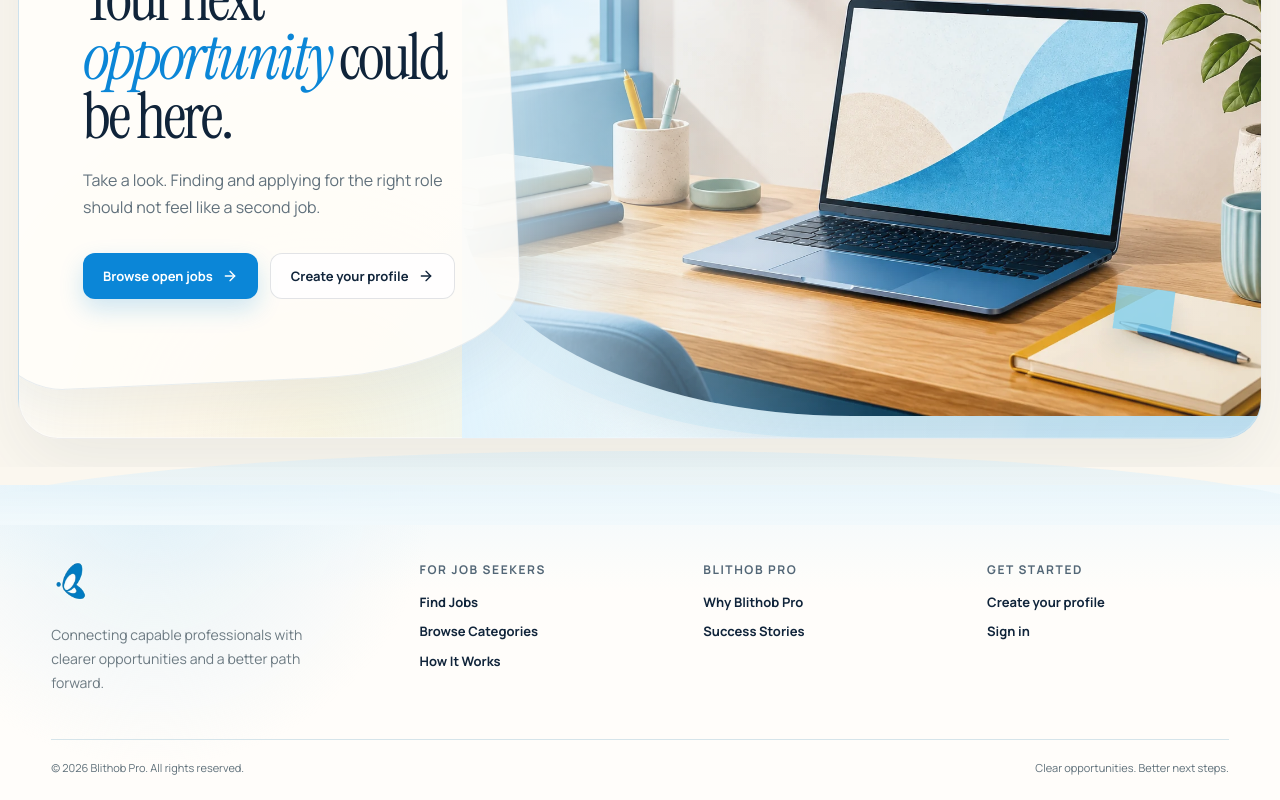
application routing › lets a visitor enter the prototype and choose a persona
The image size is (1280, 800).
(page scrolled)
Step 1. Click the link "Sign in" → (1008, 632), box [987,622,1030,642]
(page scrolled)
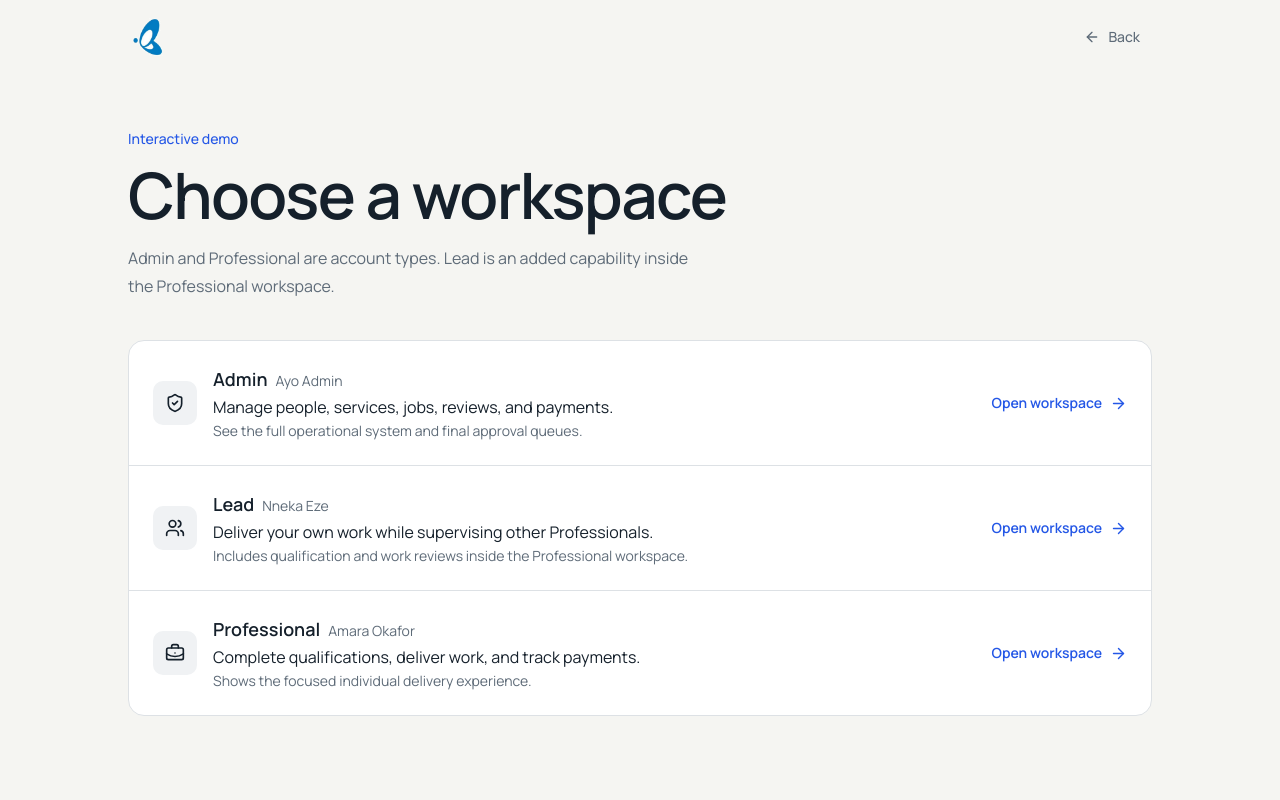
Result: the heading "Choose a workspace" is shown at [128,161,800,228]
Result: the button with aria-label "Continue as Admin" is shown at [129,341,1151,465]
Result: the button with aria-label "Continue as Lead" is shown at [129,465,1151,590]
